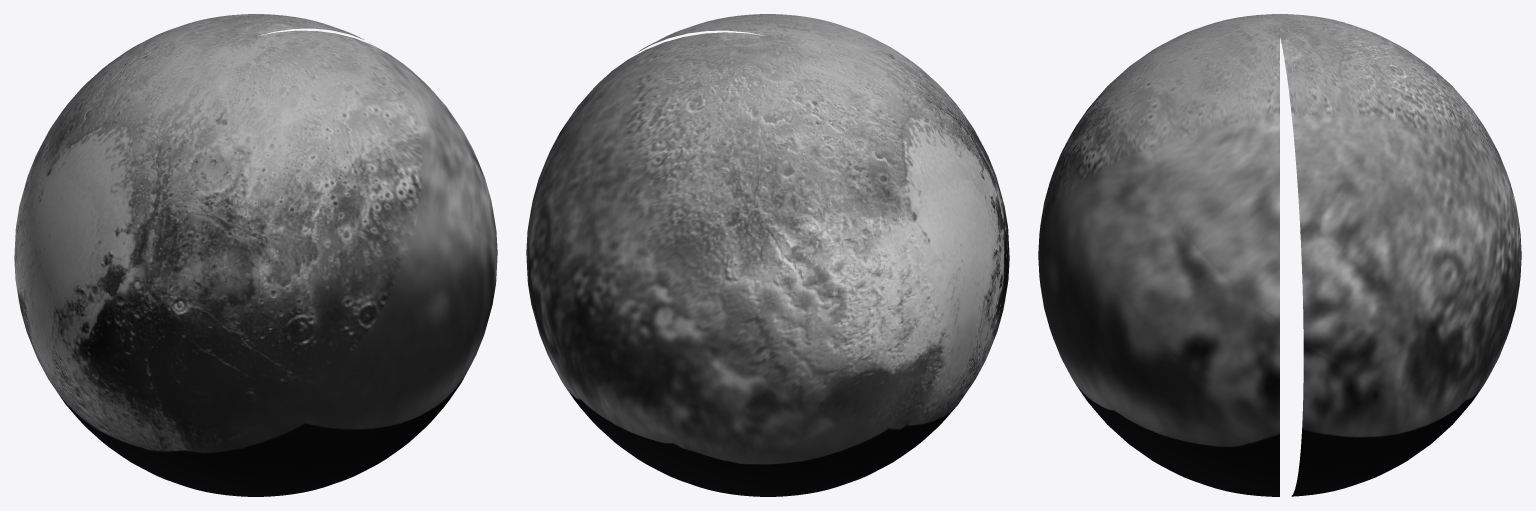
File: pluto.glb
3 views of the same model, side by side, from view 1: azimuth 30°, elevation 25°; view 2: azimuth 150°, elevation 25°; view 3: azimuth 270°, elevation 25° (orthographic).
Parts seen in each view (by area): view 1: pluto; view 2: pluto; view 3: pluto.
Boxes of the visible parts, left/top/right/bottom form: pluto: left=14, top=14, right=497, bottom=496; pluto: left=526, top=14, right=1009, bottom=496; pluto: left=1038, top=14, right=1521, bottom=496.
Size of the model in its own units: 2 by 2 by 2.
1 material, 1 textured.
